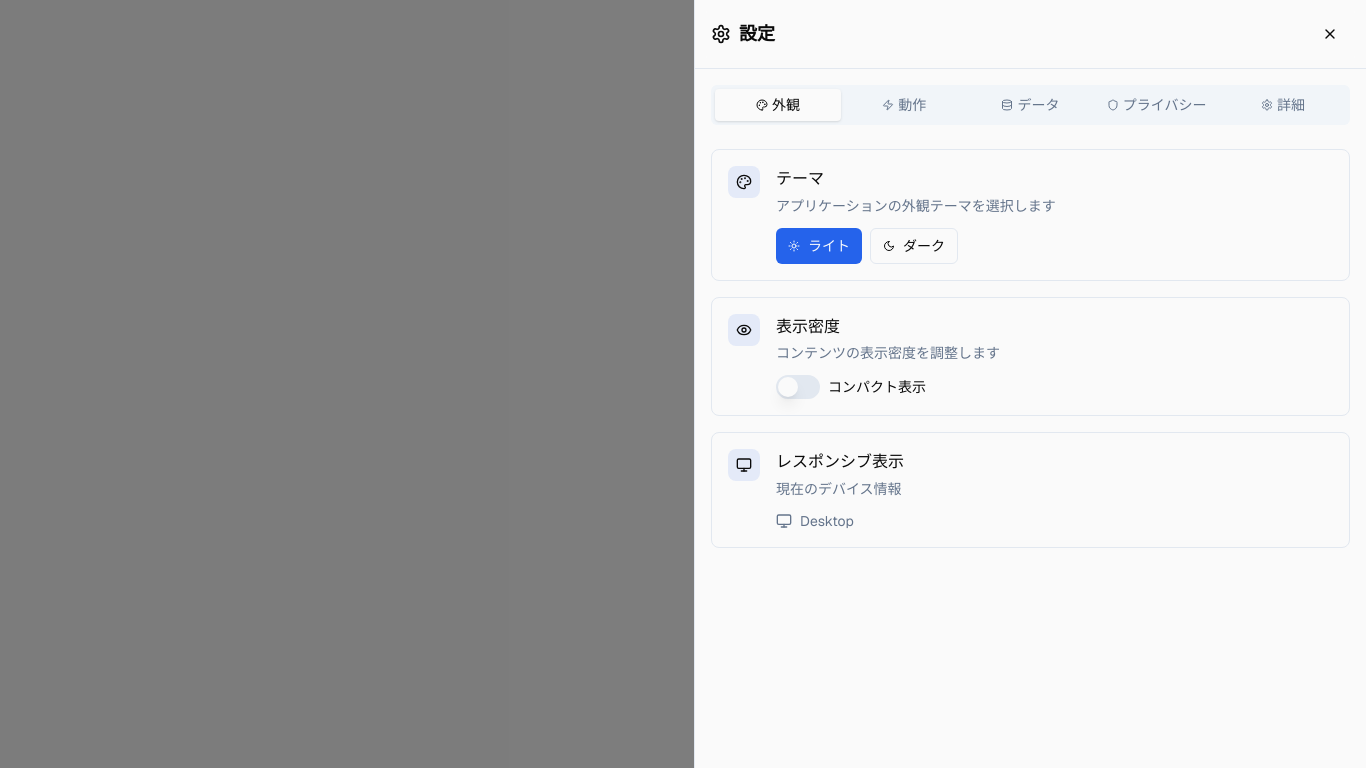
Test: SettingsPanel › タブ切り替え › データタブに切り替えできる
Click the tab "データ".
click(1030, 105)  # box [967, 89, 1094, 121]
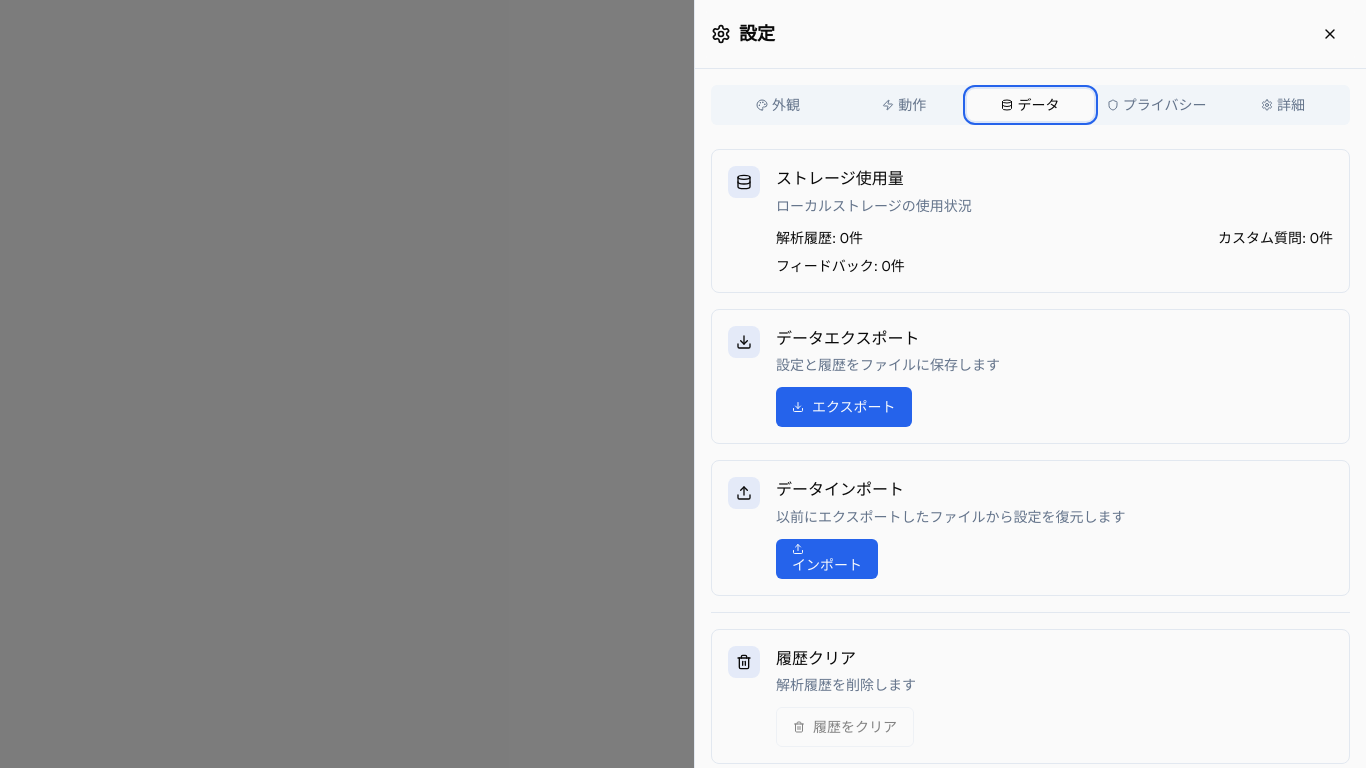
Now the heading "ストレージ使用量" is shown, box [776, 166, 904, 192]
